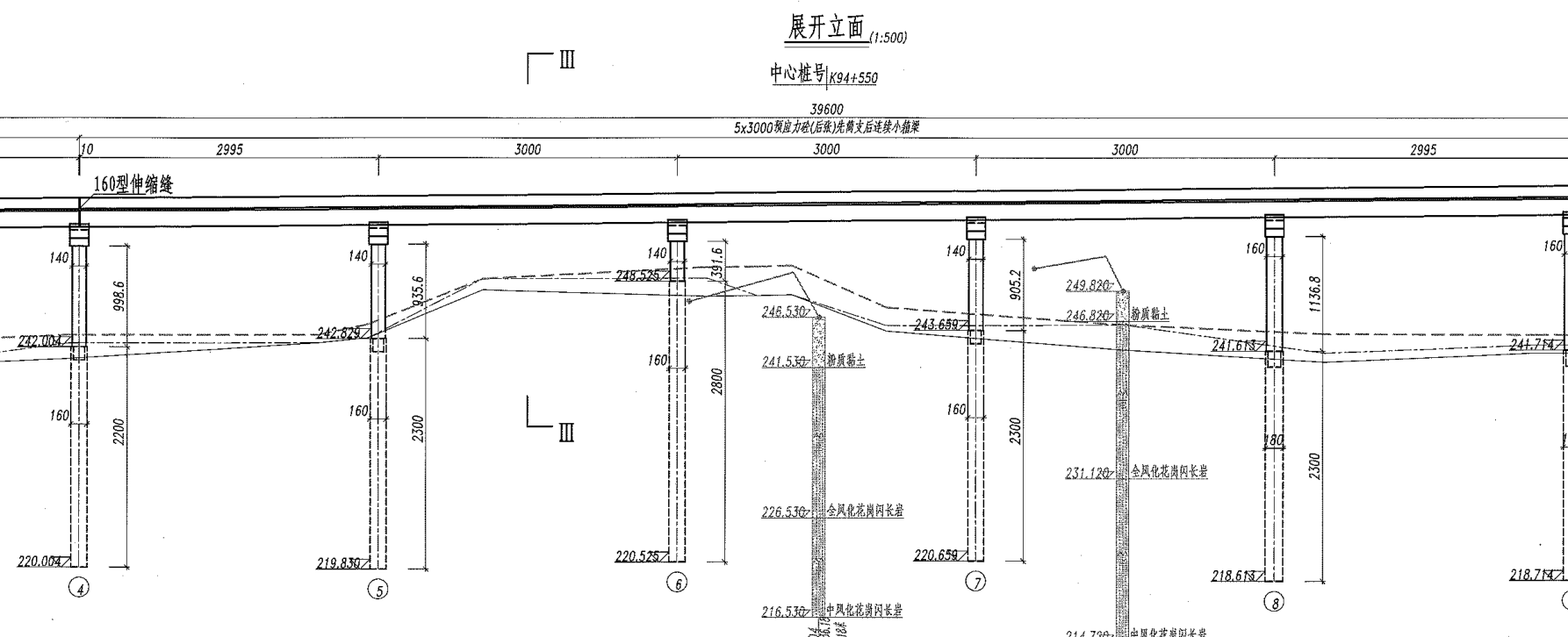A: (3, 99, 1568, 125)
B: (73, 114, 1568, 145)
C: (597, 211, 703, 604), (1197, 211, 1298, 615), (1, 216, 104, 612), (899, 216, 1003, 608), (292, 218, 396, 606)
